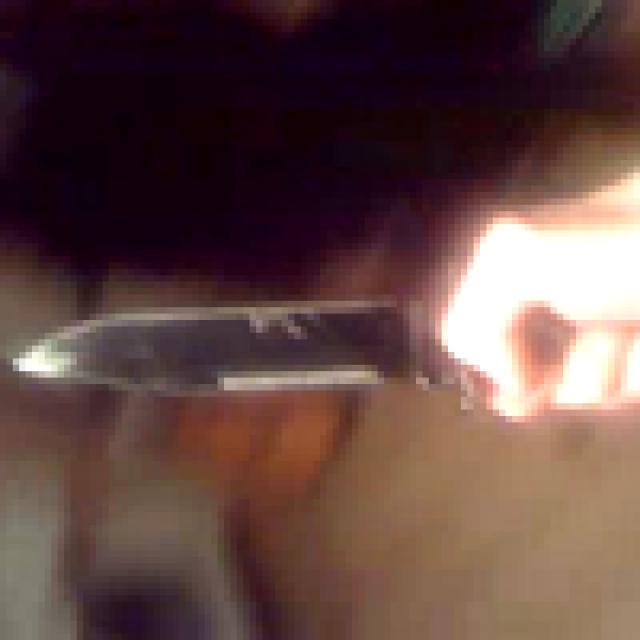Knife_Handle: (13, 170, 640, 426)
